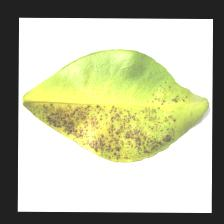canker: (43, 103, 170, 153)
